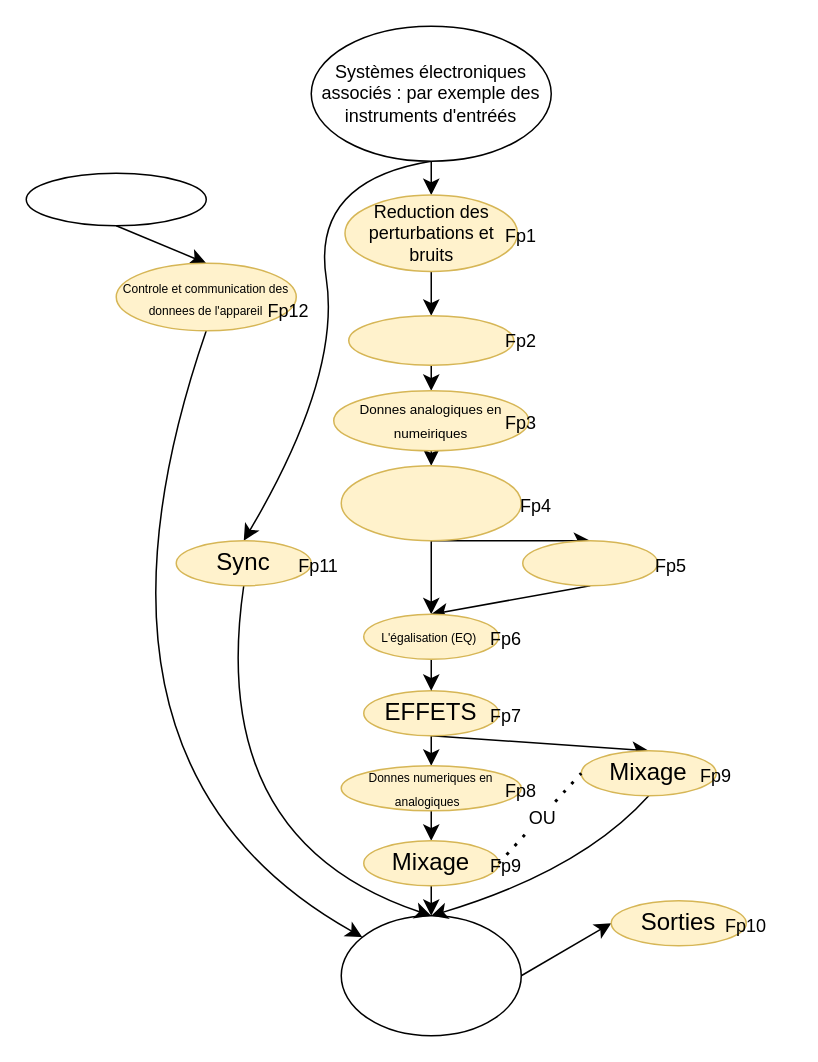
The diagram is 818 pixels wide and 1062 high, and some of its shapes have lost their labels. The centre of each missing label's shape, as x and y in pixels:
Adaptation des donnees numeriques par exemple en MIDI: [430,502]
Puissance de Signal: [430,339]
Stockage des donnees: [589,562]
Table de Mixage: [430,975]
Utilisateurs: [115,199]
